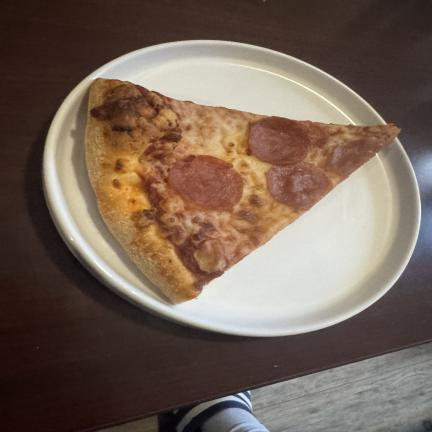pizza: (86, 79, 399, 302)
